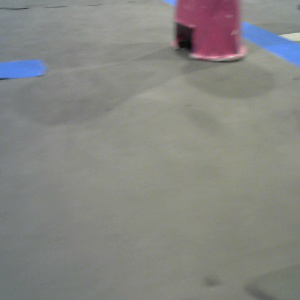right: (170, 1, 247, 62)
